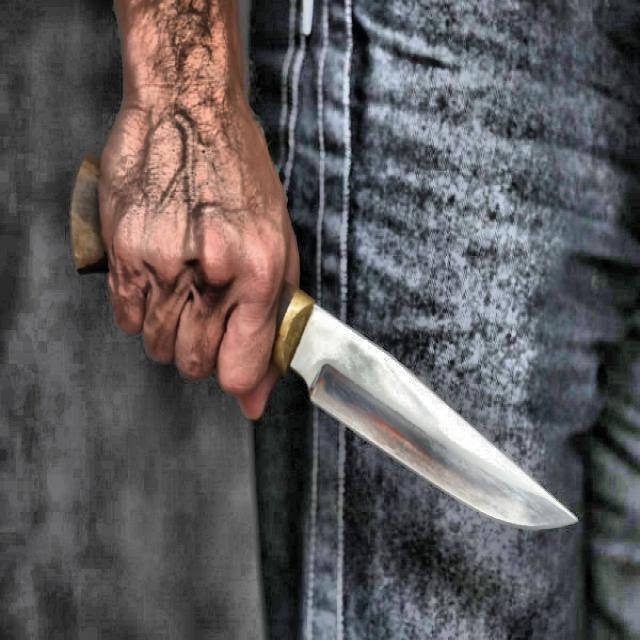knife: (71, 162, 579, 530)
